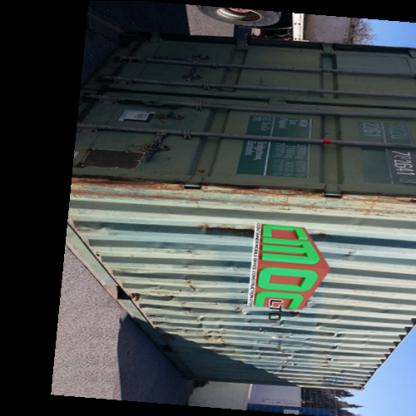Damage: (70, 172, 196, 200), (180, 310, 230, 352), (263, 324, 303, 375), (136, 279, 204, 301), (195, 223, 269, 242), (326, 326, 352, 364), (336, 242, 362, 266)
